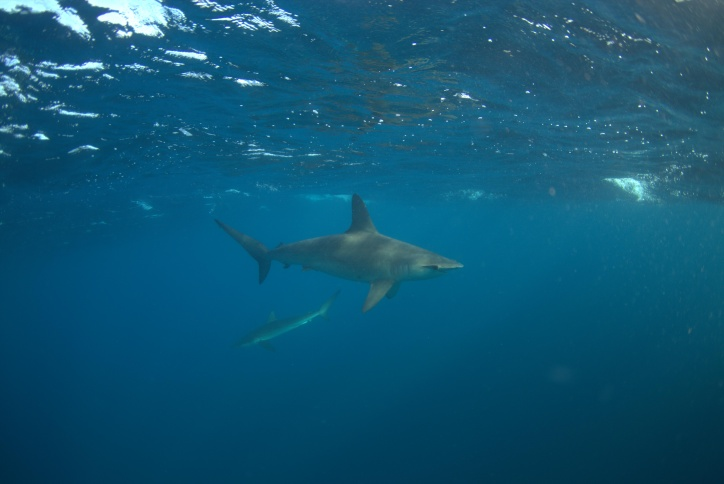Sedoso: (227, 283, 348, 362)
